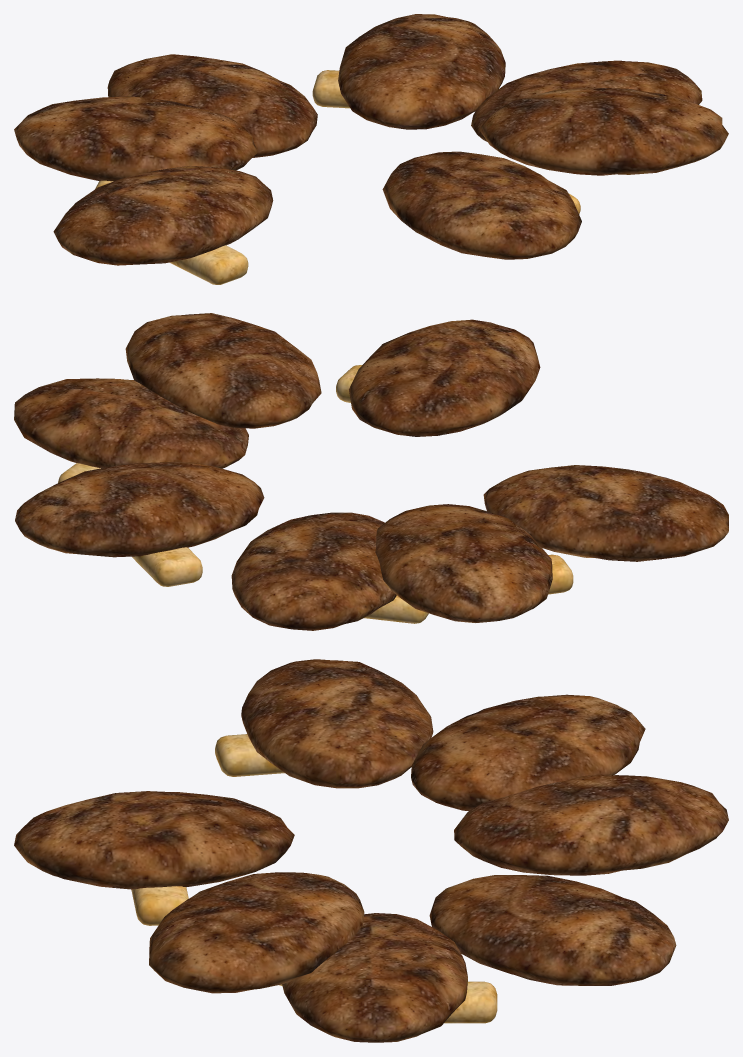
Rendered from savory-mushroom.glb.
3 renders of one model, top to bottom at view 1: azimuth 30°, elevation 25°; view 2: azimuth 150°, elevation 25°; view 3: azimuth 270°, elevation 25°, orthographic. The views are drawn at different scales.
Visible parts, largest first — view 1: savory-mushroom; view 2: savory-mushroom; view 3: savory-mushroom.
Boxes of the visible parts, box(x1,y1,x2,y2) form: savory-mushroom: box(14, 14, 728, 284); savory-mushroom: box(14, 313, 728, 630); savory-mushroom: box(14, 659, 728, 1042).
Size of the model in its own units: 2.05 by 0.2503 by 1.73.
Materials: 1 (1 with a texture image).
